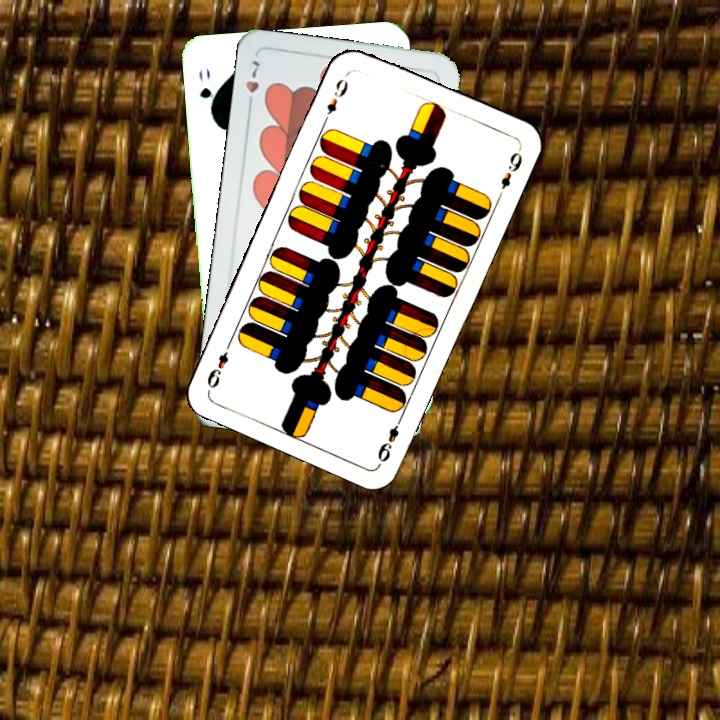E9: (373, 410, 406, 465), (320, 74, 351, 125)
GO: (195, 64, 219, 118)
H7: (242, 56, 262, 113)
